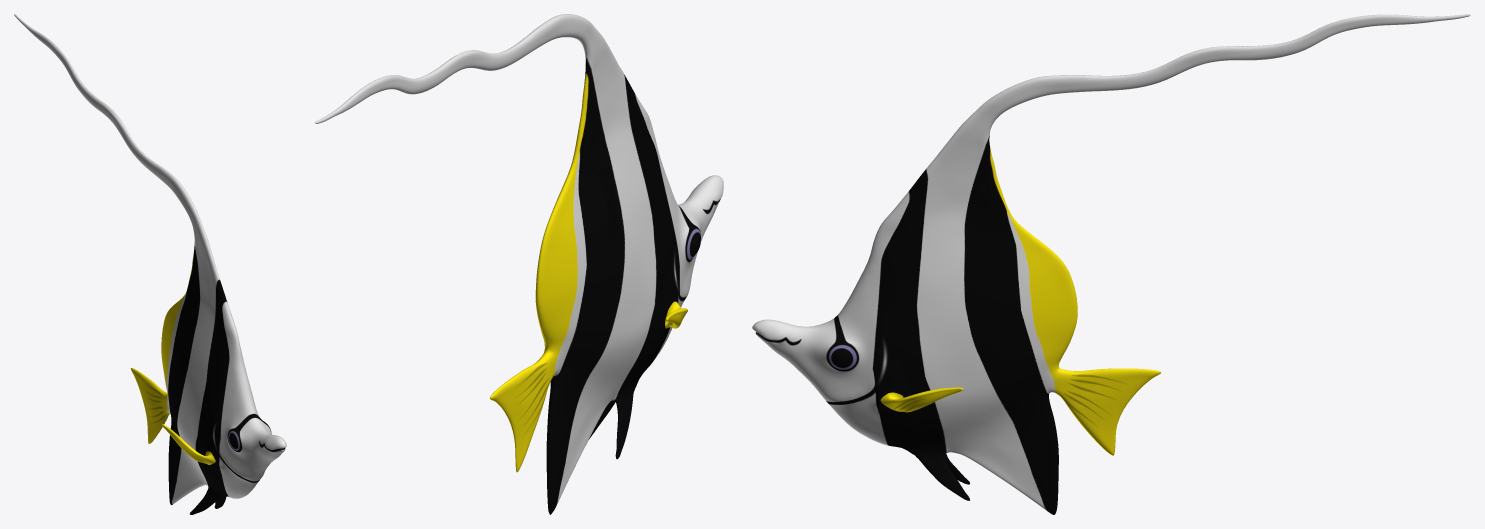
Rendered from Pez ángel 2.glb.
3 views of the same model, side by side, from view 1: azimuth 30°, elevation 25°; view 2: azimuth 150°, elevation 25°; view 3: azimuth 270°, elevation 25° (orthographic). The views are drawn at different scales.
Visible parts, largest first — view 1: angel_fish_2.1; view 2: angel_fish_2.1; view 3: angel_fish_2.1.
Part boxes in pixels (x1,y1,x2,y2): angel_fish_2.1: (14,14,286,514); angel_fish_2.1: (315,14,723,514); angel_fish_2.1: (752,14,1470,514).
Size of the model in its own units: 0.0117 by 0.0481 by 0.0625.
1 material, 1 textured.
